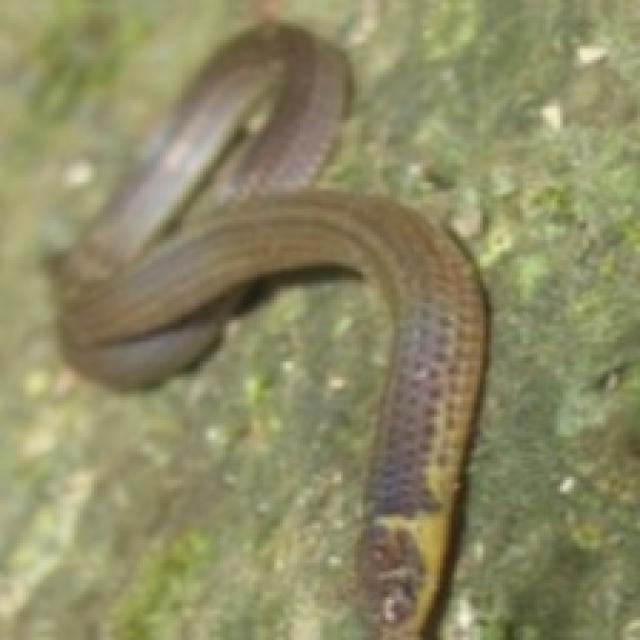gervais worm snake: (51, 23, 486, 637)
